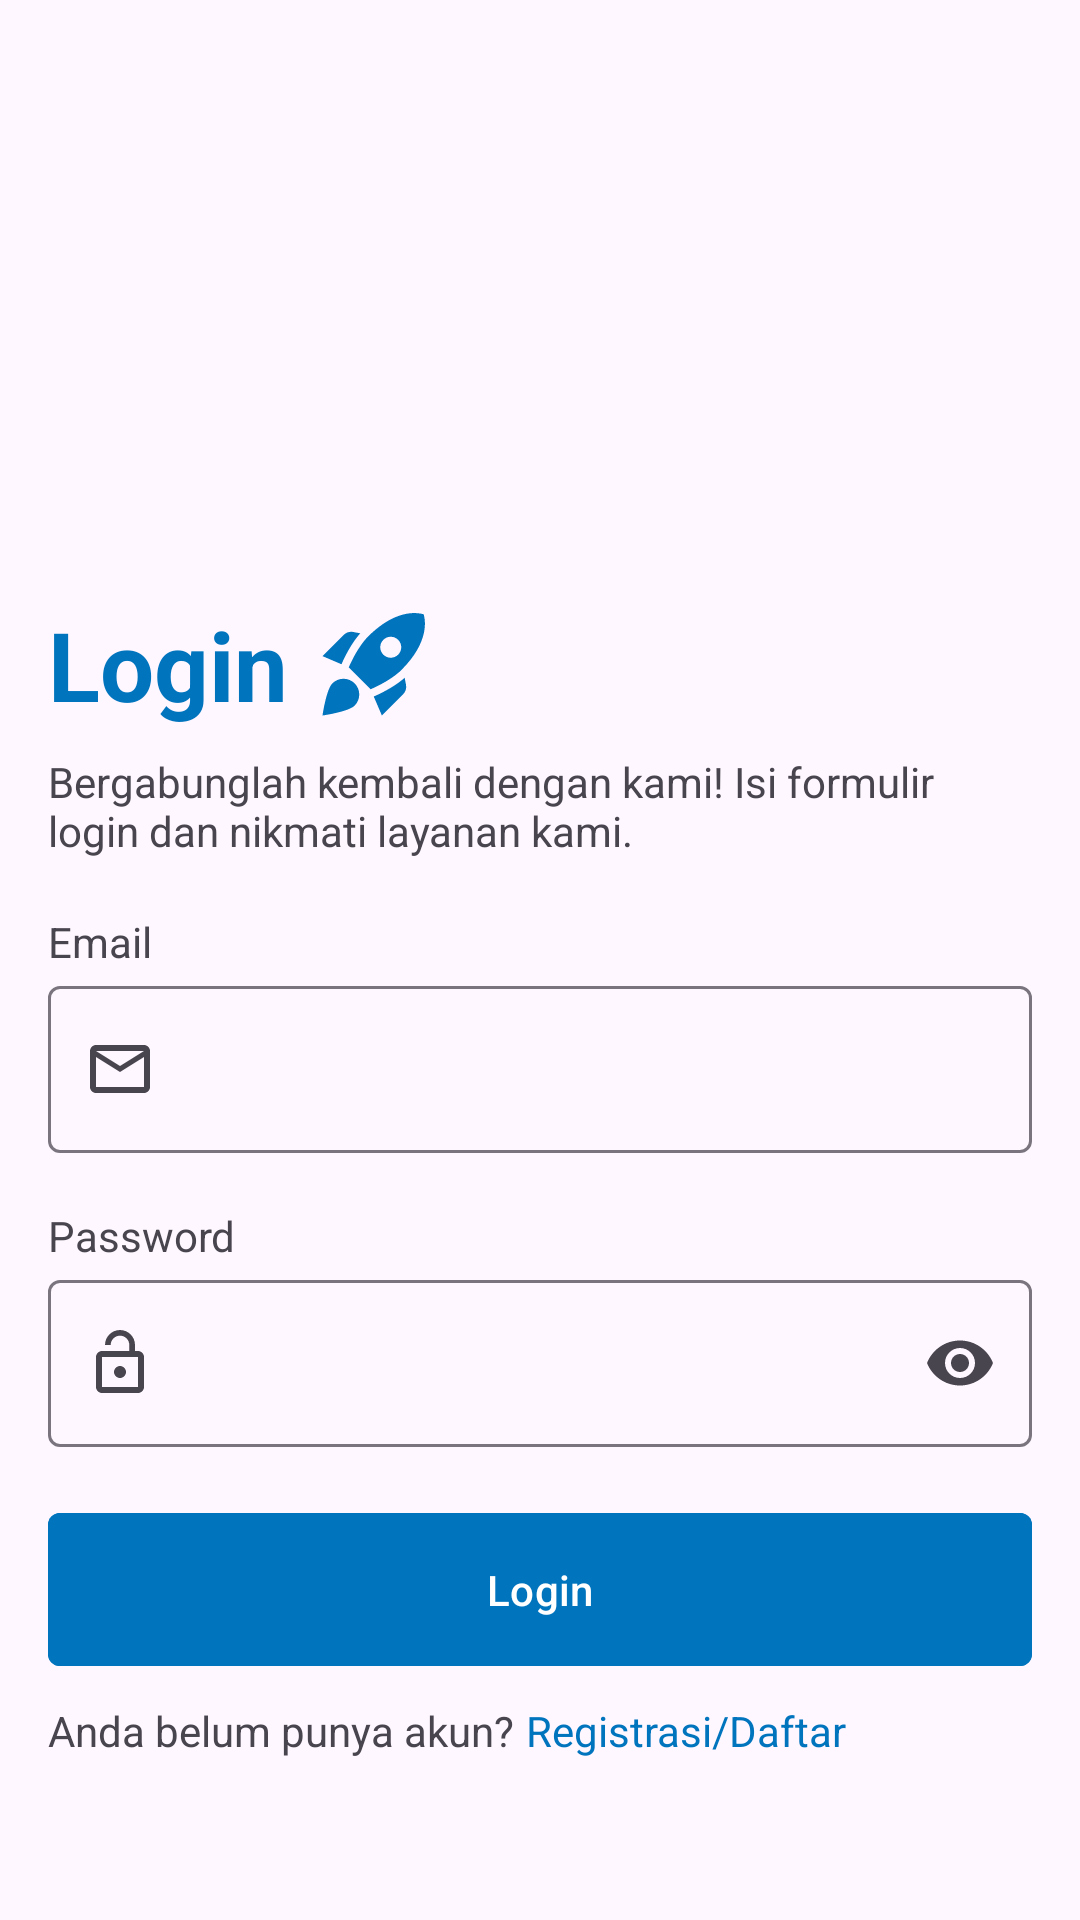

Icon click points for this 1080 x 1920 phone screenshot, format (x=x, y=y):
rocket: (x=373, y=664)
